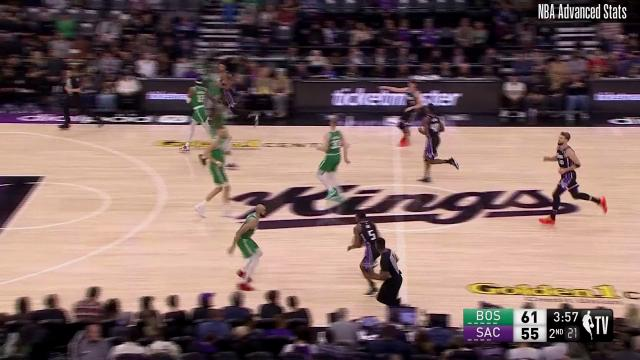referee: (370, 238, 406, 316), (58, 67, 80, 131)
team: (540, 132, 608, 228), (348, 212, 390, 296), (420, 102, 460, 182), (214, 62, 258, 128), (389, 78, 421, 146)
team1: (197, 129, 239, 217), (231, 203, 269, 293), (318, 119, 350, 207), (186, 78, 217, 150)
timer: (552, 310, 580, 324)
